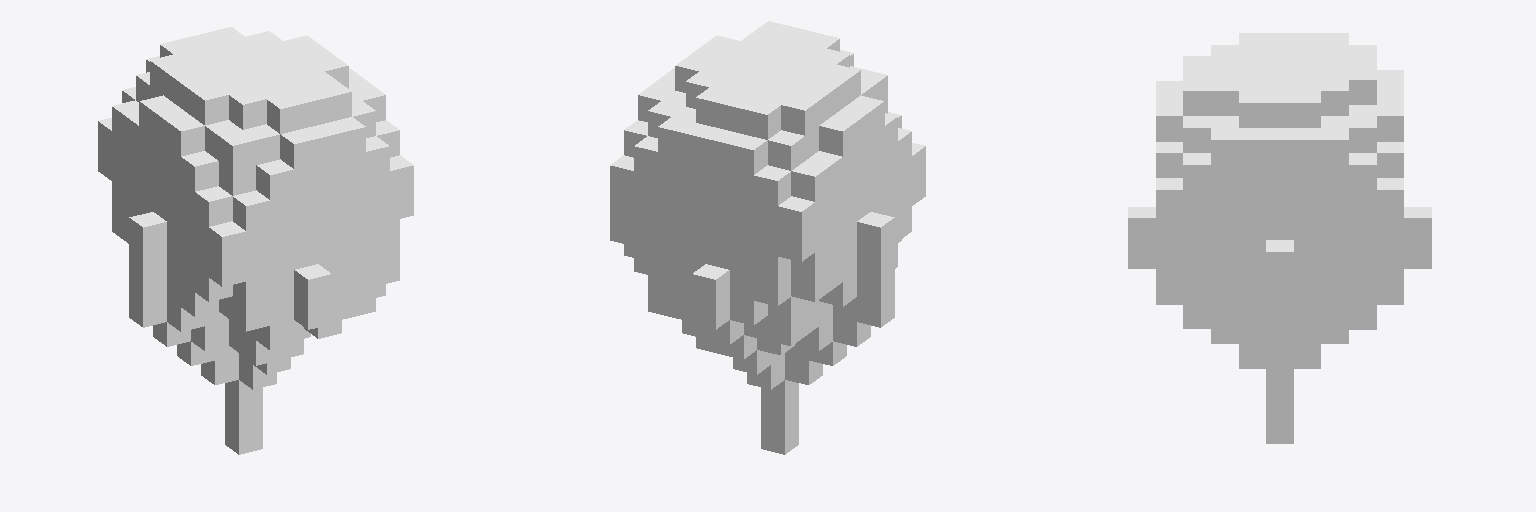
File: Tree4-0.obj
The picture shows the model from 3 angles: view 1: azimuth 30°, elevation 25°; view 2: azimuth 150°, elevation 25°; view 3: azimuth 270°, elevation 25°; orthographic projection.
Parts seen in each view (by area): view 1: object 1; view 2: object 1; view 3: object 1.
Part boxes in pixels (x1,y1,x2,y2): object 1: (98, 27, 413, 454); object 1: (610, 21, 925, 454); object 1: (1128, 33, 1431, 443).
Bounding box in the file's own units: 1 × 1.5 × 1.1.